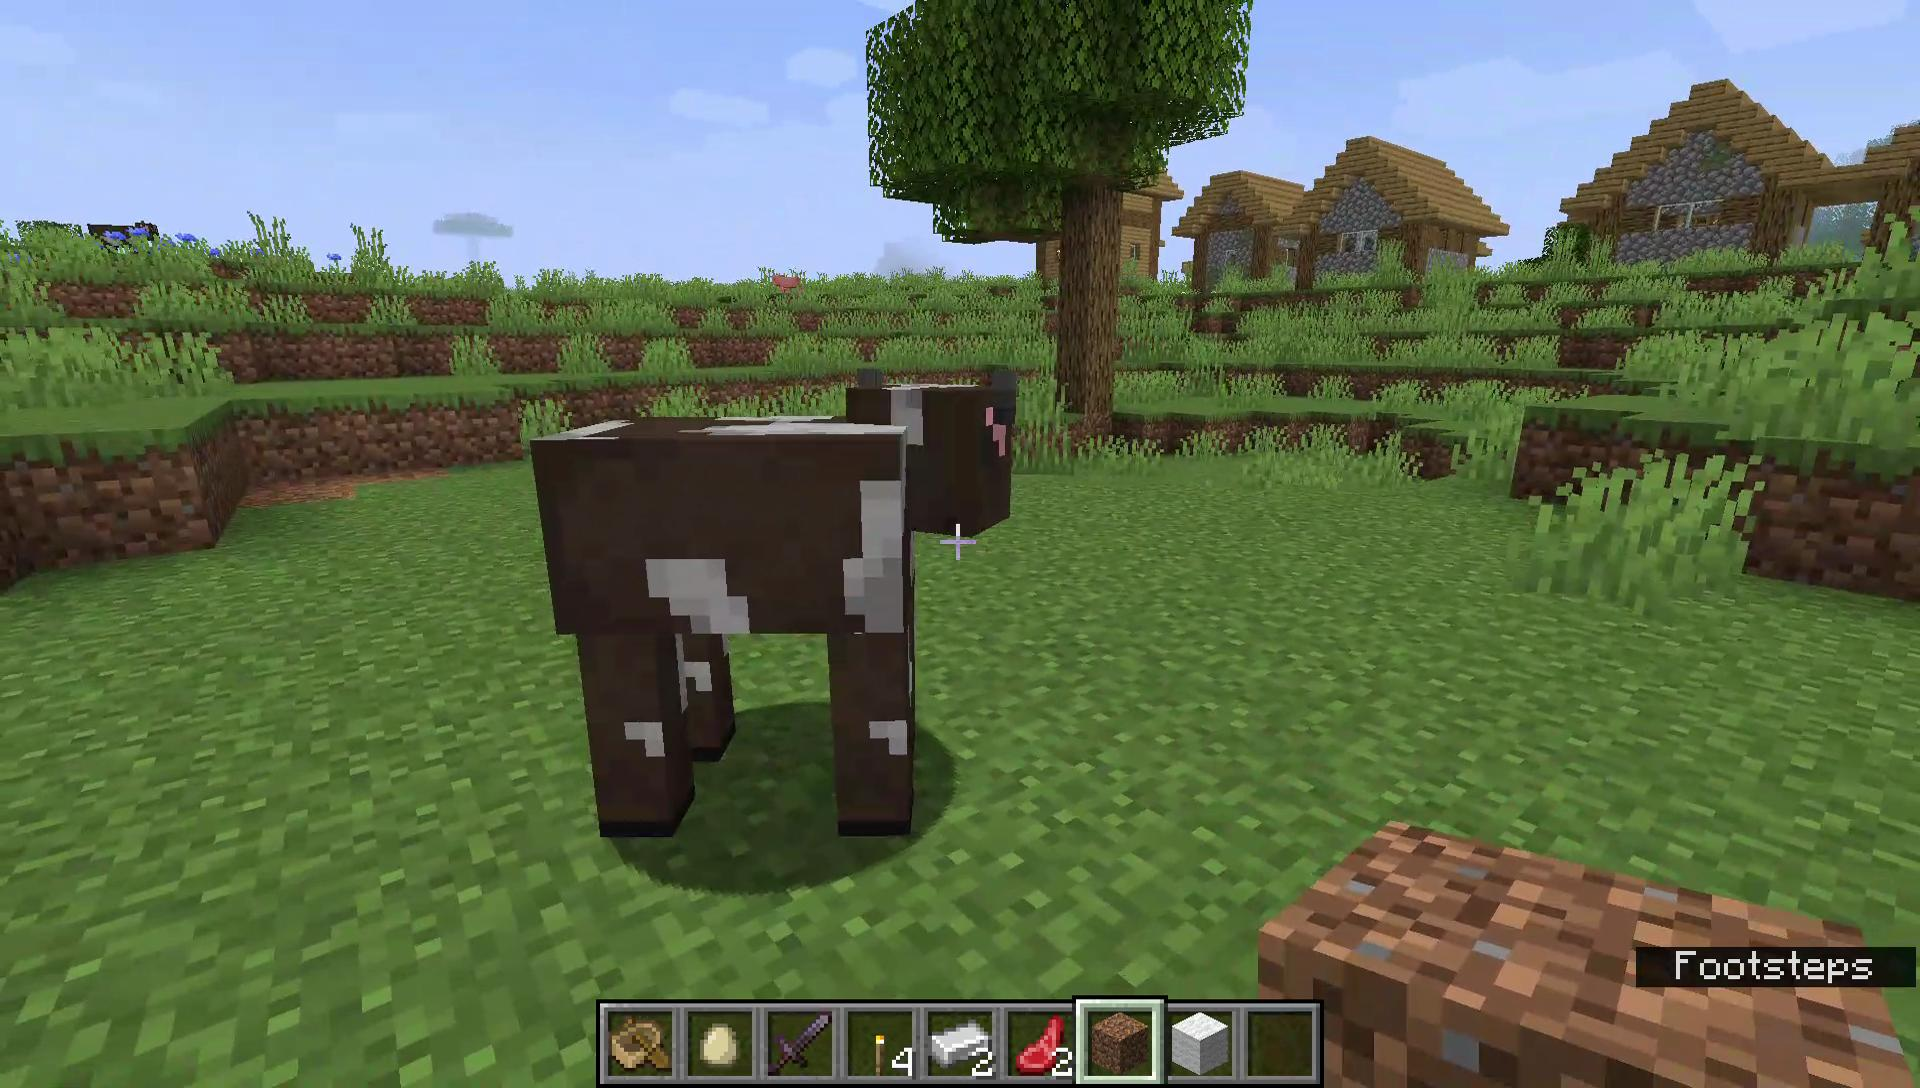cow: (524, 361, 1031, 845), (82, 219, 169, 261)
pig: (773, 270, 803, 298)
